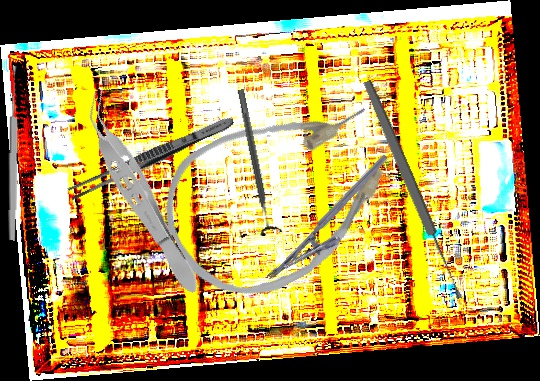Cannula: (142, 71, 421, 322)
Dressing Forceps: (66, 111, 237, 204)
Fixation Ring: (228, 87, 284, 237)
Needle Holder: (265, 153, 406, 297)
Surgical Spoon: (360, 78, 466, 302), (6, 65, 21, 241)
Tissue Forceps: (70, 87, 211, 301)
